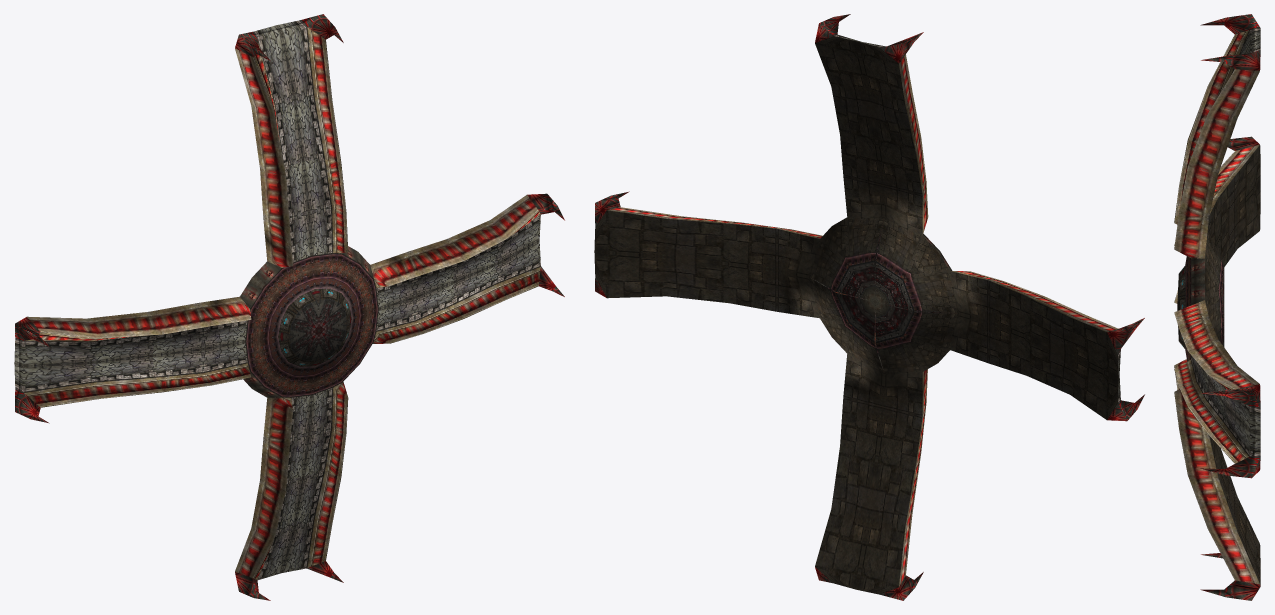
The model's file is X-bridge-01.obj.
The picture shows the model from 3 angles, left to right: view 1: azimuth 30°, elevation 25°; view 2: azimuth 150°, elevation 25°; view 3: azimuth 270°, elevation 25°; orthographic projection.
Visible parts, largest first — view 1: (null); view 2: (null); view 3: (null).
Part boxes in pixels (<box>): (null): <box>14,14,564,600</box>; (null): <box>594,14,1144,600</box>; (null): <box>1174,14,1260,600</box>.
Size of the model in its own units: 12.76 by 12.76 by 1.83.
